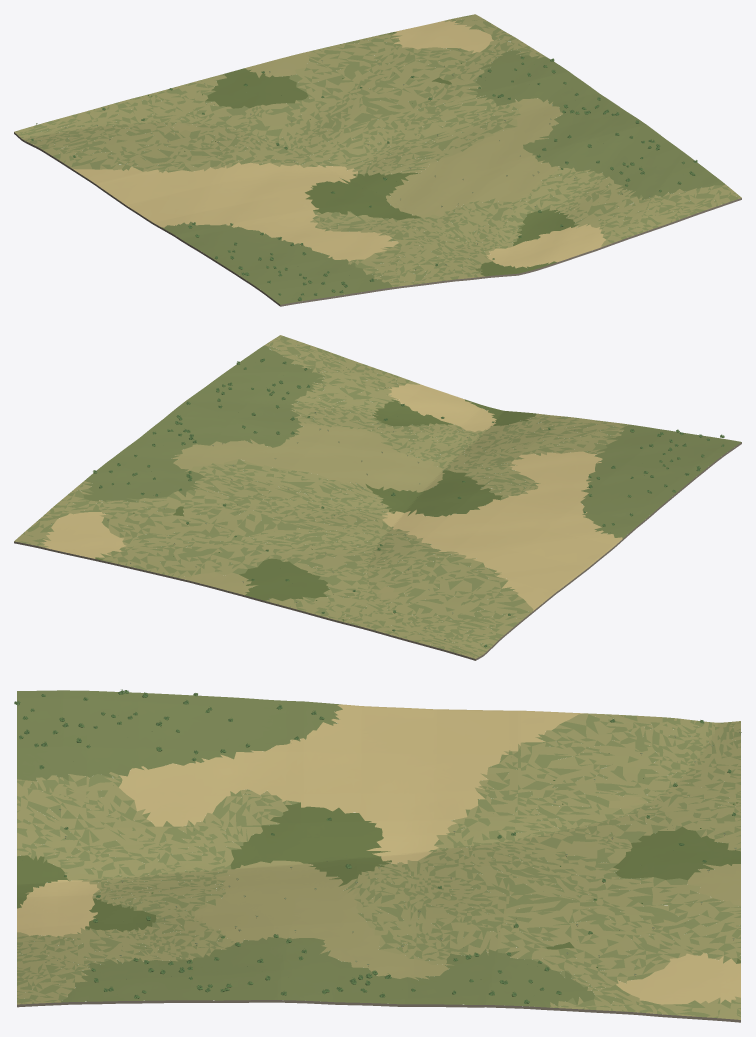
The model's file is parca_+2_-3-yakin.glb.
3 renders of one model, top to bottom at view 1: azimuth 30°, elevation 25°; view 2: azimuth 150°, elevation 25°; view 3: azimuth 270°, elevation 25°, orthographic. The views are drawn at different scales.
Visible parts, largest first — view 1: parca_+2_-3_arazi, parca_+2_-3_bitkiler; view 2: parca_+2_-3_arazi, parca_+2_-3_bitkiler; view 3: parca_+2_-3_arazi, parca_+2_-3_bitkiler.
Part boxes in pixels (box(x1,y1,x2,y2)): parca_+2_-3_arazi: box(14, 14, 741, 306); parca_+2_-3_bitkiler: box(31, 39, 697, 300); parca_+2_-3_arazi: box(14, 335, 741, 660); parca_+2_-3_bitkiler: box(51, 358, 724, 651); parca_+2_-3_arazi: box(17, 690, 740, 1022); parca_+2_-3_bitkiler: box(14, 689, 741, 1005).
Bounding box in the file's own units: 1000 × 66.35 × 1006.
